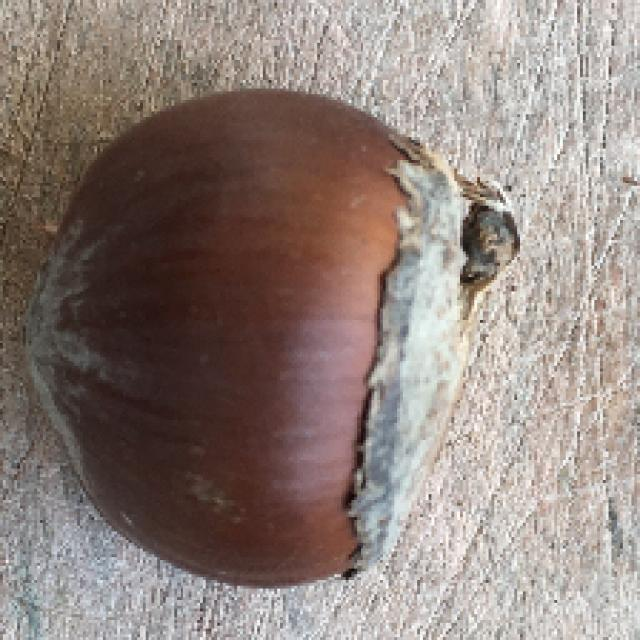damagedHazelnut: (33, 88, 530, 598)
